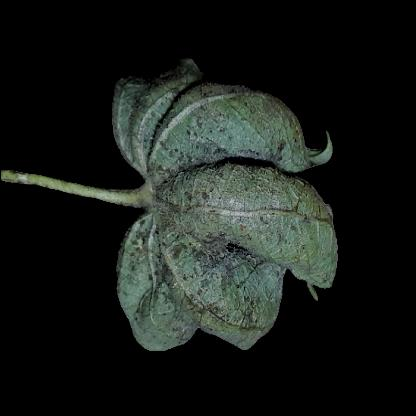curl_stage2: (223, 177, 281, 227), (232, 105, 286, 158), (280, 221, 336, 271)
sooty: (139, 125, 215, 298), (207, 246, 263, 333), (113, 91, 157, 157), (153, 302, 205, 338)
